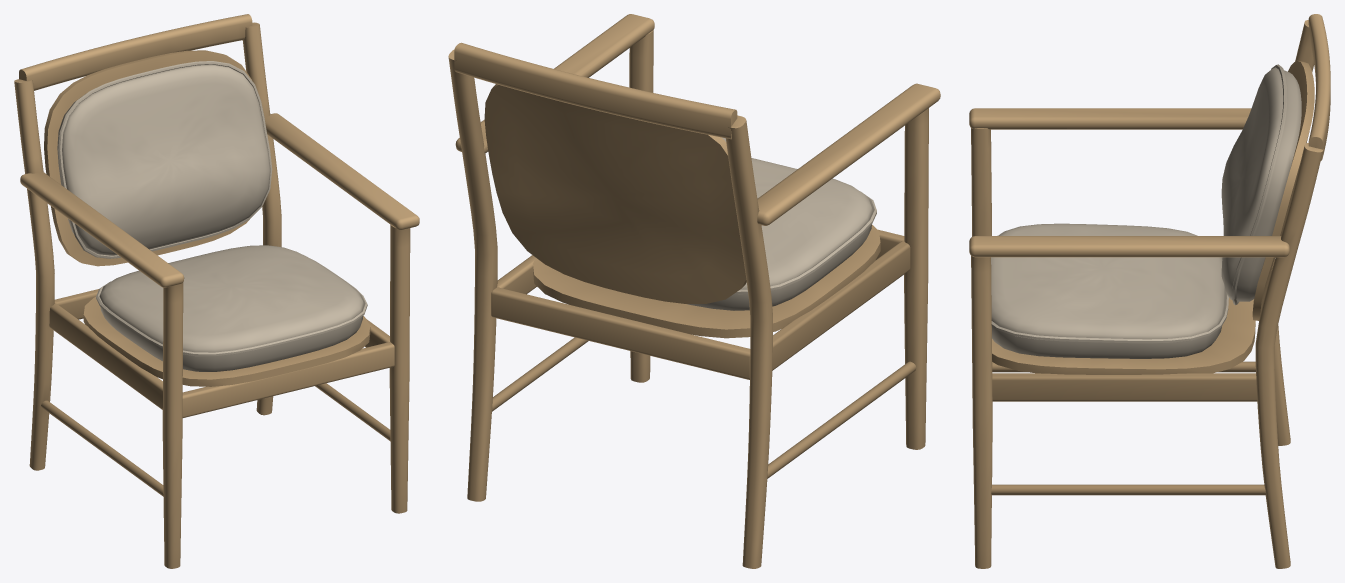
Rendered from dining-chair-lod0.glb.
3 renders of one model, left to right at view 1: azimuth 30°, elevation 25°; view 2: azimuth 150°, elevation 25°; view 3: azimuth 270°, elevation 25°, orthographic. The views are drawn at different scales.
Parts seen in each view (by area): view 1: dining-chair.lod0__dining light oak, dining-chair.lod0__dining oatmeal linen; view 2: dining-chair.lod0__dining light oak, dining-chair.lod0__dining oatmeal linen; view 3: dining-chair.lod0__dining light oak, dining-chair.lod0__dining oatmeal linen.
Part boxes in pixels (bbox=[...]): dining-chair.lod0__dining light oak: bbox=[14, 14, 419, 568]; dining-chair.lod0__dining oatmeal linen: bbox=[57, 61, 367, 371]; dining-chair.lod0__dining light oak: bbox=[448, 14, 940, 568]; dining-chair.lod0__dining oatmeal linen: bbox=[687, 137, 876, 310]; dining-chair.lod0__dining light oak: bbox=[969, 14, 1330, 568]; dining-chair.lod0__dining oatmeal linen: bbox=[991, 64, 1301, 358].
Bounding box in the file's own units: 0.598 × 0.8526 × 0.6506.
